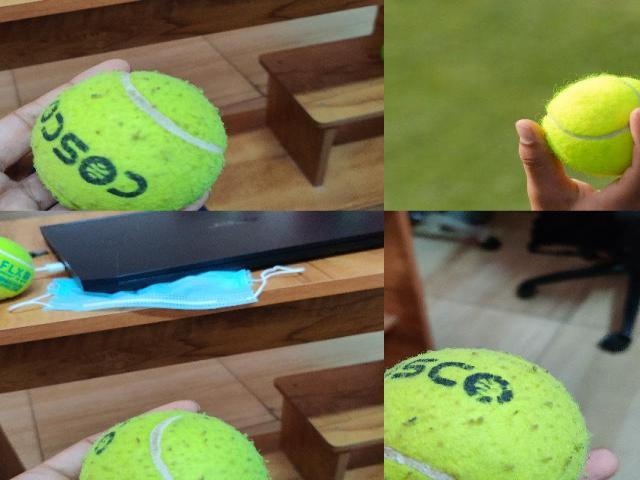tennis-ball: (29, 70, 227, 210), (384, 348, 589, 479), (77, 410, 270, 480), (541, 74, 639, 176), (0, 236, 33, 300)
